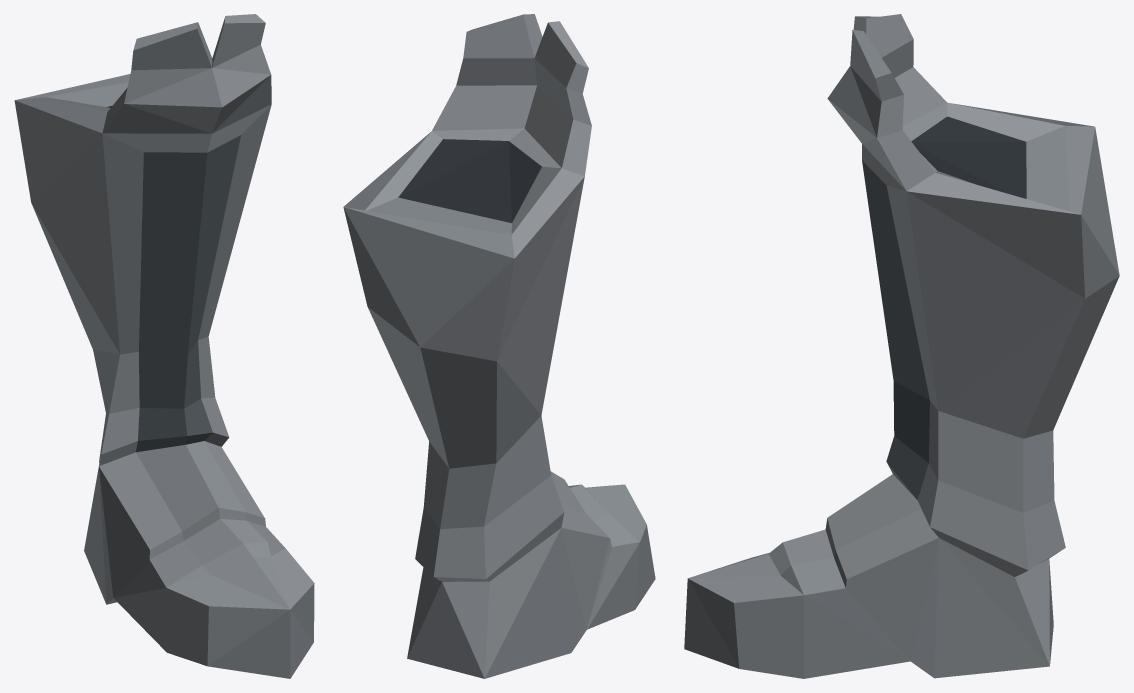
Rendered from Chr_LegRight_Female_14_Static.fbx.
3 views of the same model, side by side, from view 1: azimuth 30°, elevation 25°; view 2: azimuth 150°, elevation 25°; view 3: azimuth 270°, elevation 25° (orthographic). The views are drawn at different scales.
Visible parts, largest first — view 1: Chr_LegRight_Female_14_Static; view 2: Chr_LegRight_Female_14_Static; view 3: Chr_LegRight_Female_14_Static.
Boxes of the visible parts, box(x1,y1,x2,y2) form: Chr_LegRight_Female_14_Static: box(14, 14, 314, 678); Chr_LegRight_Female_14_Static: box(343, 14, 655, 678); Chr_LegRight_Female_14_Static: box(684, 14, 1119, 678).
Size of the model in its own units: 0.1561 by 0.4979 by 0.3124.
